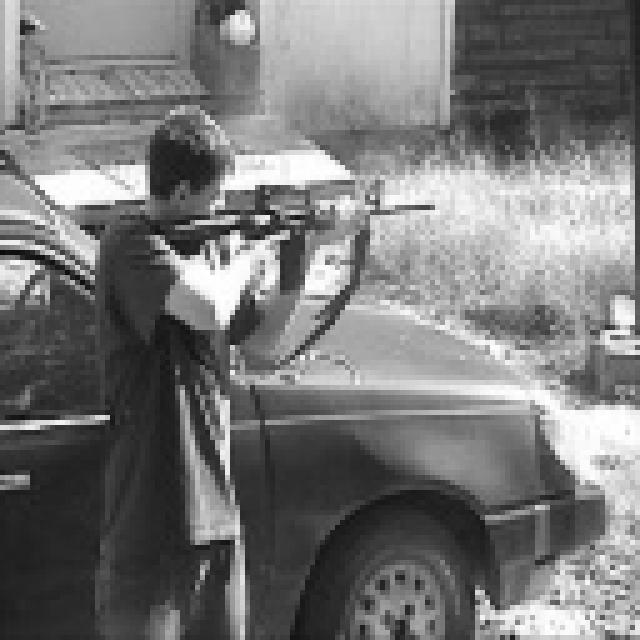Rifle: (151, 142, 452, 394)
